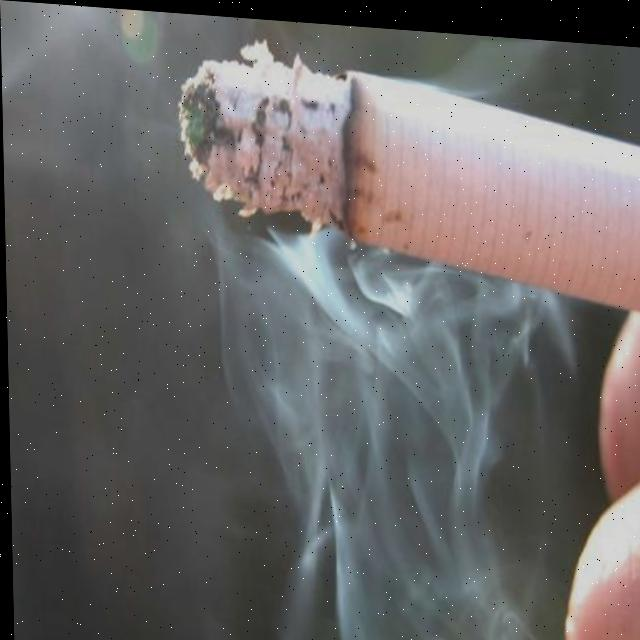cigarette: (180, 31, 640, 305)
